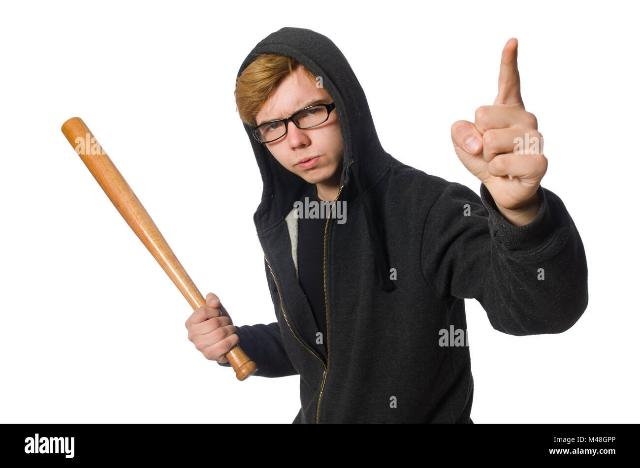baseball bat: (58, 118, 256, 380)
